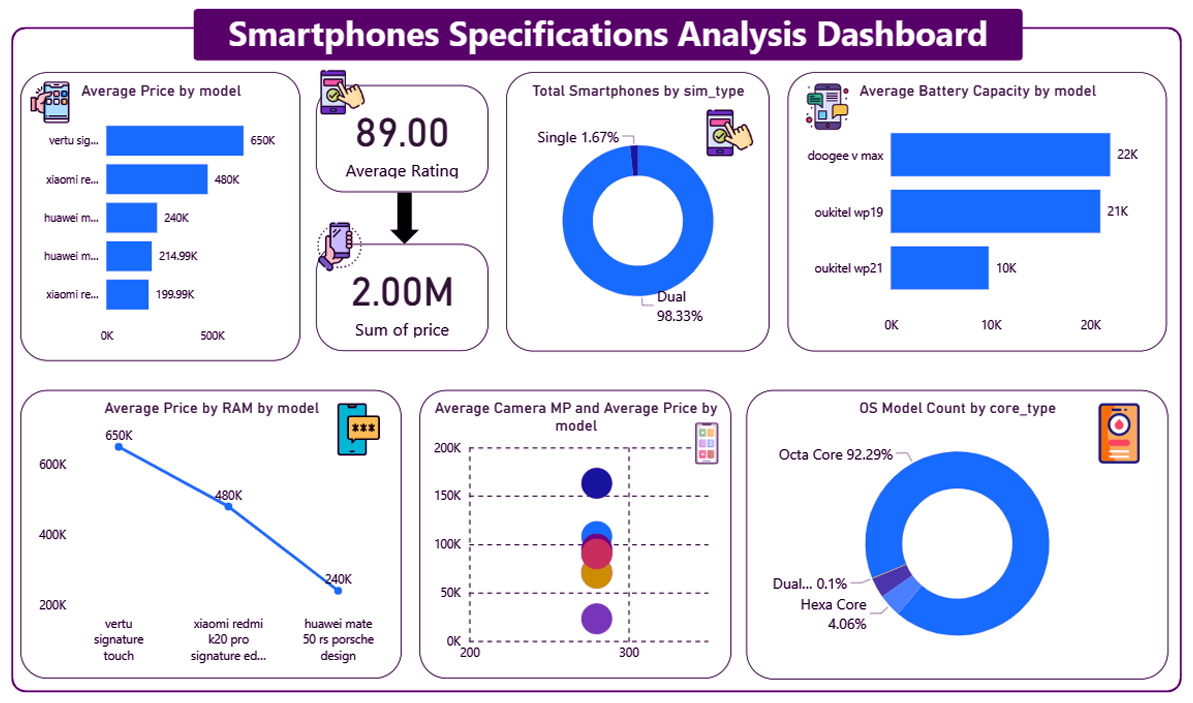

This screenshot's page, from the dashboard's own definition file:
{"tool":"powerbi","page":{"name":"Dashboard1","canvas":[1320,780],"ordinal":0},"visuals":[{"type":"shape","box":[12.9,31.4,1294.3,735.7],"z":0},{"type":"barChart","fields":{"Category":["Smartphone_data.model"],"Y":["Smartphone_data.Average Price"]},"box":[22.9,80.9,310,319.4],"z":1000},{"type":"card","fields":{"Values":["Smartphone_data.Average Rating"]},"box":[350,95,190,118.8],"z":2000},{"type":"card","fields":{"Values":["Sum(Smartphone_data.price)"]},"box":[350,271.2,190,118.8],"z":3000},{"type":"donutChart","fields":{"Category":["Smartphone_data.sim_type"],"Y":["Smartphone_data.Total Smartphones"]},"box":[560,81.2,291.2,308.8],"z":4000},{"type":"barChart","fields":{"Category":["Smartphone_data.model"],"Y":["Smartphone_data.Average Battery Capacity"]},"box":[871.9,80.9,419.1,308.6],"z":5000},{"type":"lineChart","fields":{"Y":["Smartphone_data.Average Price by RAM"],"Category":["Smartphone_data.model"]},"box":[22.9,432.2,421.8,319.4],"z":6000},{"type":"scatterChart","fields":{"X":["Smartphone_data.Average Camera MP"],"Y":["Smartphone_data.Average Price"],"Category":["Smartphone_data.model"]},"box":[463.6,432.6,345,319.4],"z":7000},{"type":"donutChart","fields":{"Y":["Smartphone_data.OS Model Count"],"Category":["Smartphone_data.core_type"]},"box":[825,432.5,466.2,320],"z":8000},{"type":"shape","box":[431.2,213.8,32.5,57.5],"z":9000},{"type":"shape","box":[214.3,11.4,917.1,57.1],"z":10000},{"type":"image","box":[26.2,87.5,60,55],"z":11000},{"type":"image","box":[350,72.5,58.8,61.2],"z":12000},{"type":"image","box":[777.5,115,61.2,65],"z":13000},{"type":"image","box":[343.8,242.5,63.8,63.8],"z":14000},{"type":"image","box":[882.5,87.5,65,65],"z":15000},{"type":"image","box":[1200,442.5,76.2,76.2],"z":16000},{"type":"image","box":[363.8,442.5,67.5,67.5],"z":17000},{"type":"image","box":[753.8,463.8,55,55],"z":18000}]}

Visuals, with their boxes in screenshot pixels (x1, y1, x2, y2), scaled from the page's 1320x780 canvas onto the 1193x703 screenshot:
shape: [12,28,1181,691]
barChart - Smartphone_data.model x Smartphone_data.Average Price: [21,73,301,361]
card - Smartphone_data.Average Rating: [316,86,488,193]
card - Sum(Smartphone_data.price): [316,244,488,352]
donutChart - Smartphone_data.sim_type x Smartphone_data.Total Smartphones: [506,73,769,352]
barChart - Smartphone_data.model x Smartphone_data.Average Battery Capacity: [788,73,1167,351]
lineChart - Smartphone_data.Average Price by RAM x Smartphone_data.model: [21,390,402,677]
scatterChart - Smartphone_data.Average Camera MP x Smartphone_data.Average Price: [419,390,731,678]
donutChart - Smartphone_data.OS Model Count x Smartphone_data.core_type: [746,390,1167,678]
shape: [390,193,419,245]
shape: [194,10,1023,62]
image: [24,79,78,128]
image: [316,65,369,121]
image: [703,104,758,162]
image: [311,219,368,276]
image: [798,79,856,137]
image: [1085,399,1153,467]
image: [329,399,390,460]
image: [681,418,731,468]
